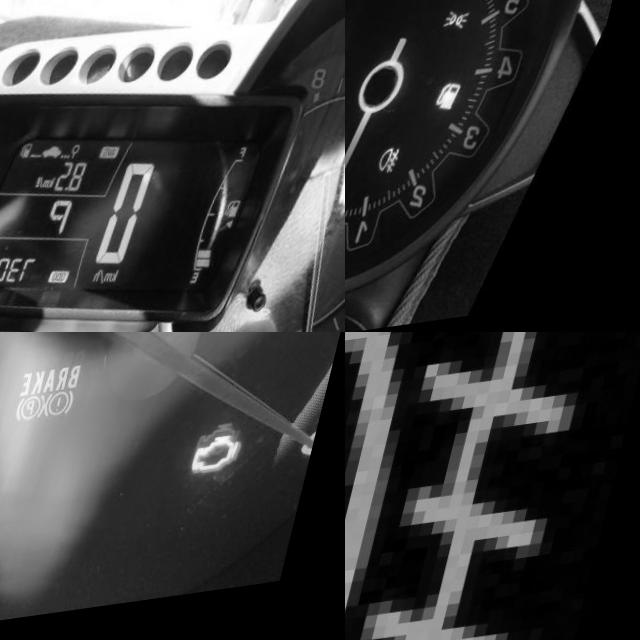FrontFogLight: (345, 332, 639, 640), (399, 155, 430, 189)
Low fuel level: (455, 92, 487, 126)
SideLamp: (460, 19, 491, 45)
